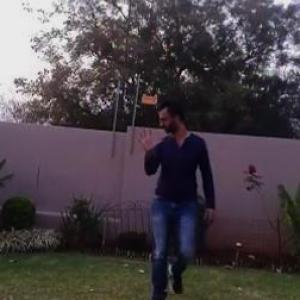follow_hand: (134, 122, 156, 154)
